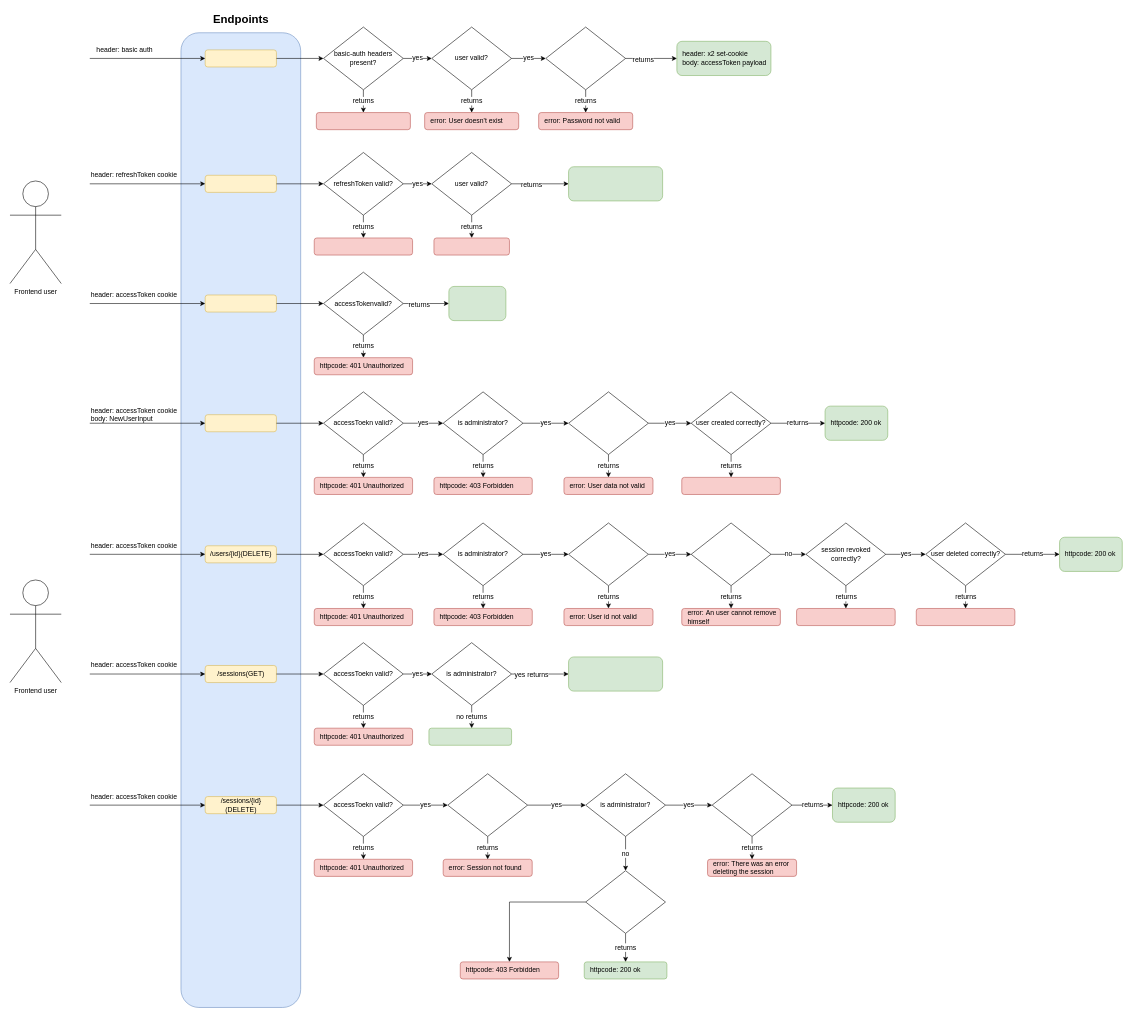
This 1133x1017 diagram has some shape labels left out. Here are the shapes that lost their labels. From the top down, the box of each, then its label:
(205, 49, 276, 67): /auth/login (POST)
(545, 27, 626, 90): password valid?
(316, 112, 410, 130): error: Empty name or password
(205, 175, 276, 192): /auth/refresh(POST)
(568, 166, 663, 201): header: x1 set-cookie body: accessToken payload
(314, 237, 413, 255): error: User session not found
(433, 237, 509, 255): error: User not valid
(205, 294, 276, 312): /users(GET)
(448, 286, 506, 321): body: user list
(205, 414, 276, 432): /users(POST)
(568, 391, 648, 455): new user input valid?
(681, 477, 780, 494): error: Error creating new user
(568, 522, 648, 586): user id valid?
(691, 522, 771, 586): removing himself ?
(796, 608, 895, 626): error: Error revoking user session before delete
(916, 608, 1015, 626): error: There was an error deleting the user
(568, 656, 663, 691): body: all application session list
(428, 728, 512, 745): body: user session list
(447, 773, 528, 836): session id valid?
(712, 773, 792, 836): session deleted correctly?
(585, 870, 665, 933): session belongs to user?
